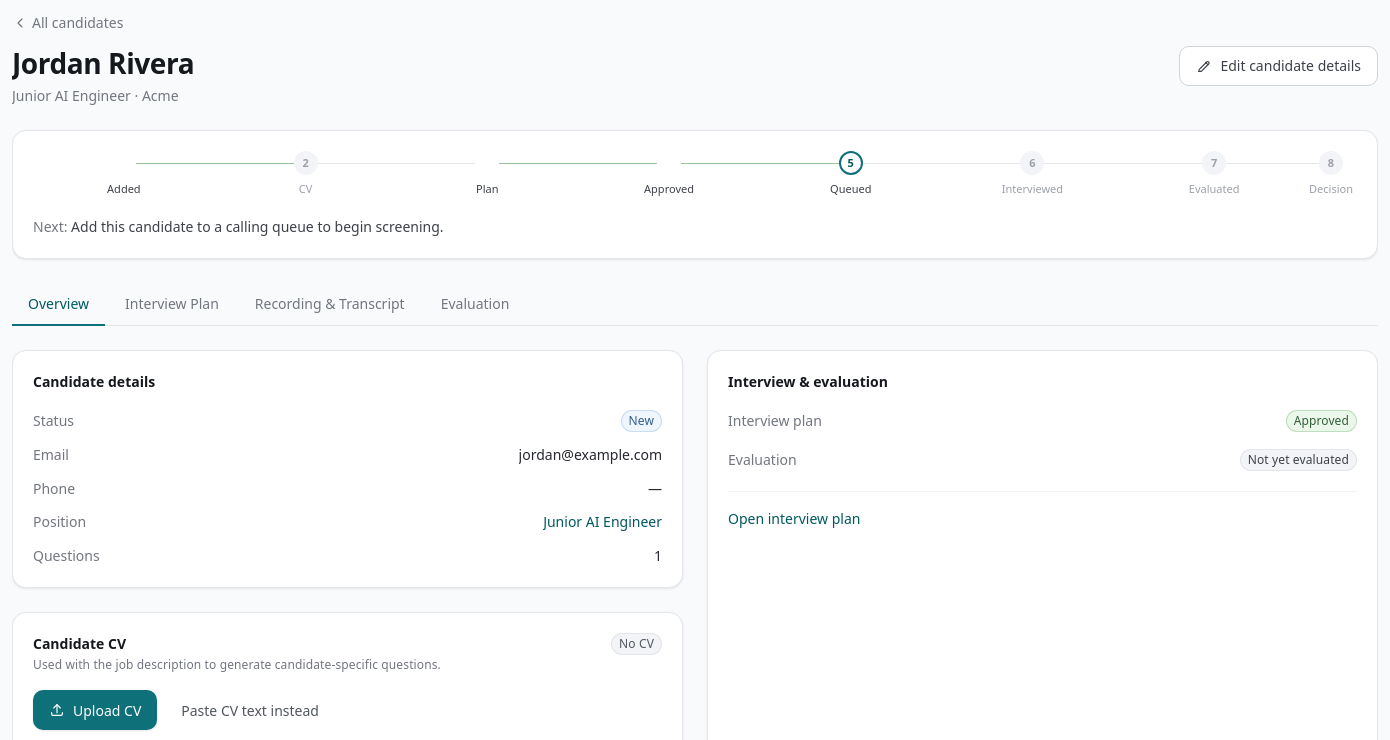
Test case: CandidateDetailPage › shows the backend error when preparation fails
Click the tab "Interview Plan".
click(172, 304)  # box [109,283,235,326]
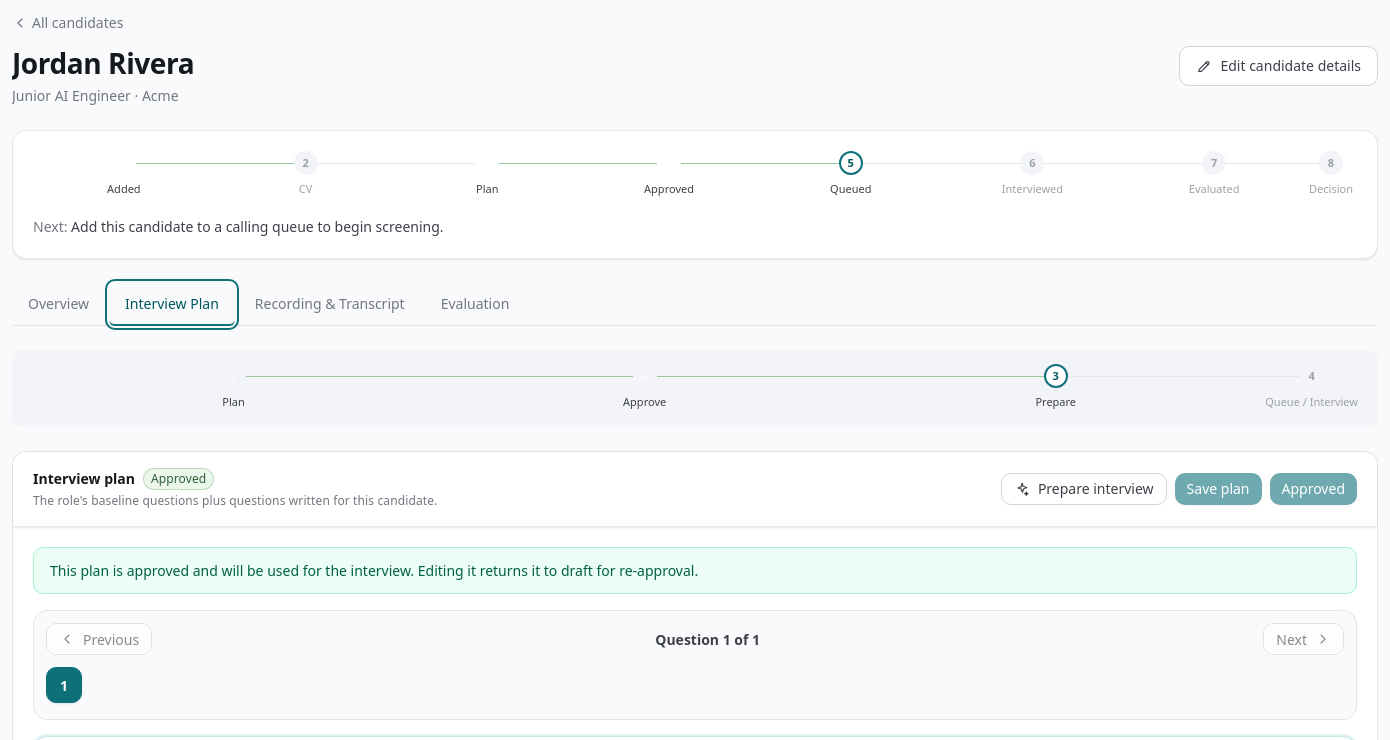
Click the button "Prepare interview".
click(1084, 489)  # box [1001,473,1167,505]
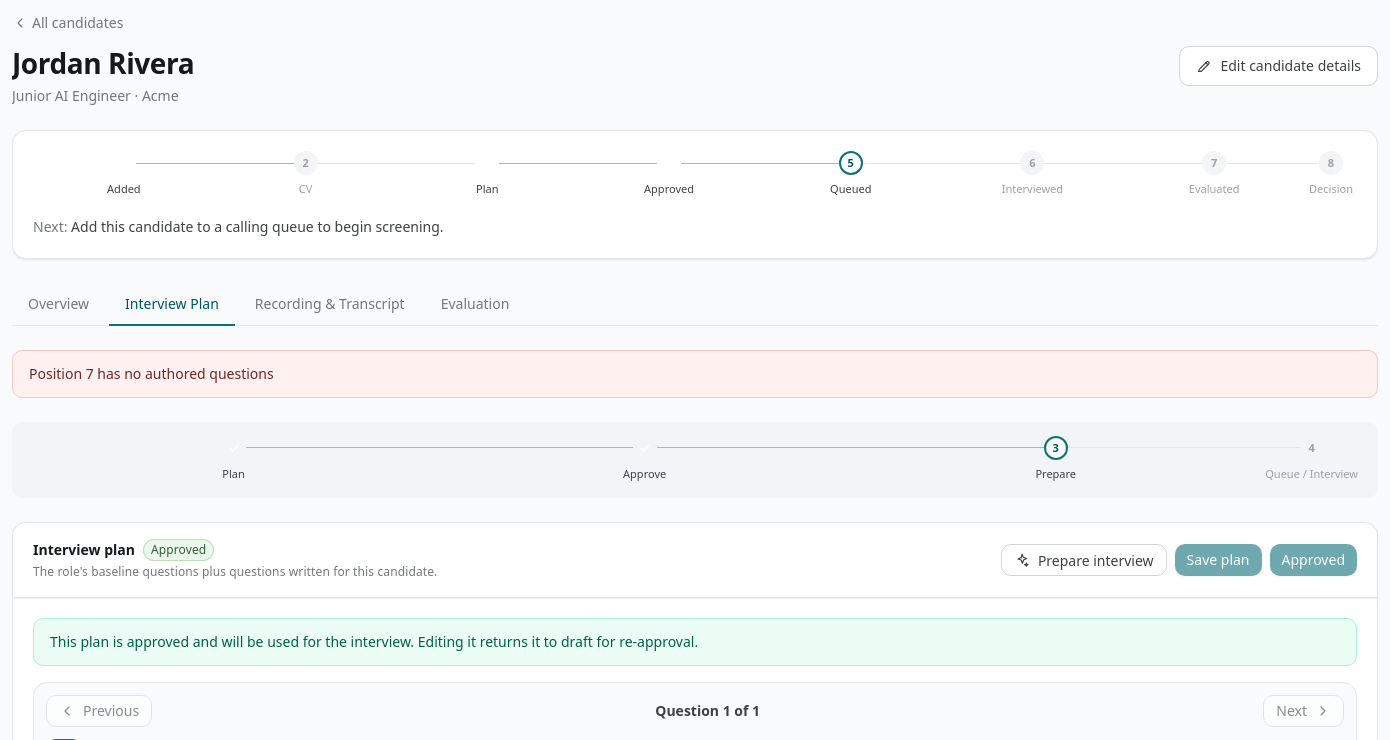
Check: the message shows "has no authored questions", box [29,364,274,383]
